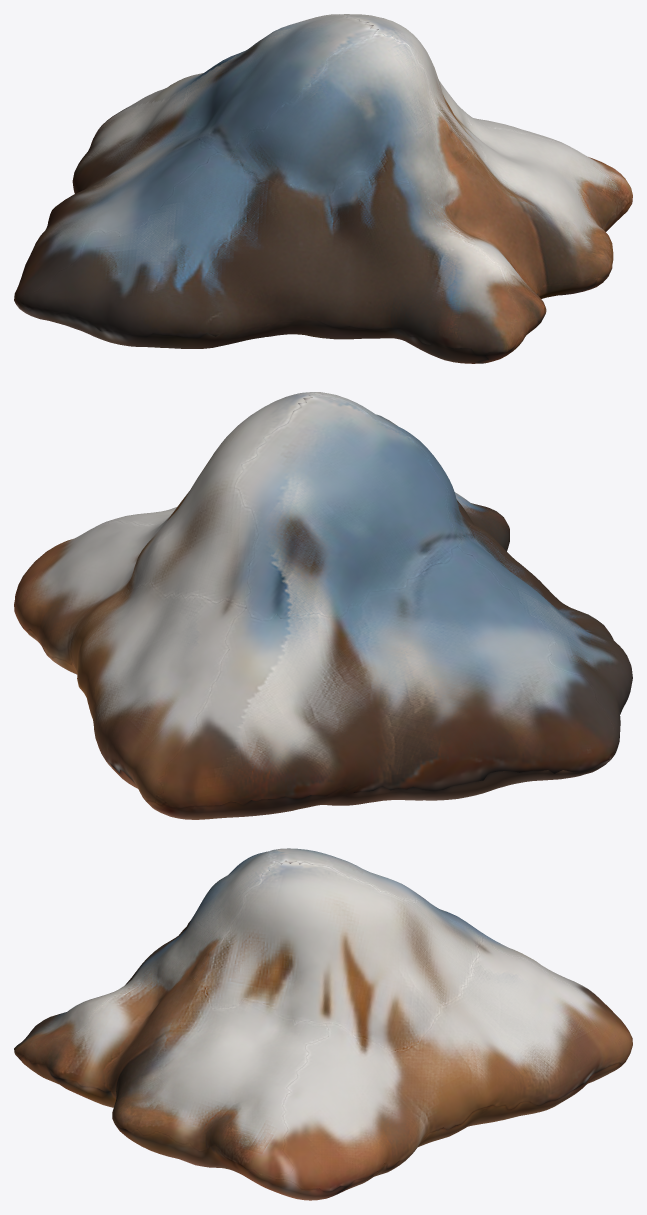
The picture shows the model from 3 angles, top to bottom: view 1: azimuth 30°, elevation 25°; view 2: azimuth 150°, elevation 25°; view 3: azimuth 270°, elevation 25°; orthographic projection. The views are drawn at different scales.
Parts seen in each view (by area): view 1: model.obj; view 2: model.obj; view 3: model.obj.
Part boxes in pixels (x1,y1,x2,y2): model.obj: (14,14,632,363); model.obj: (14,392,632,819); model.obj: (14,848,632,1200).
Bounding box in the file's own units: 1.12 × 0.4912 × 1.13.
1 material, 1 textured.
